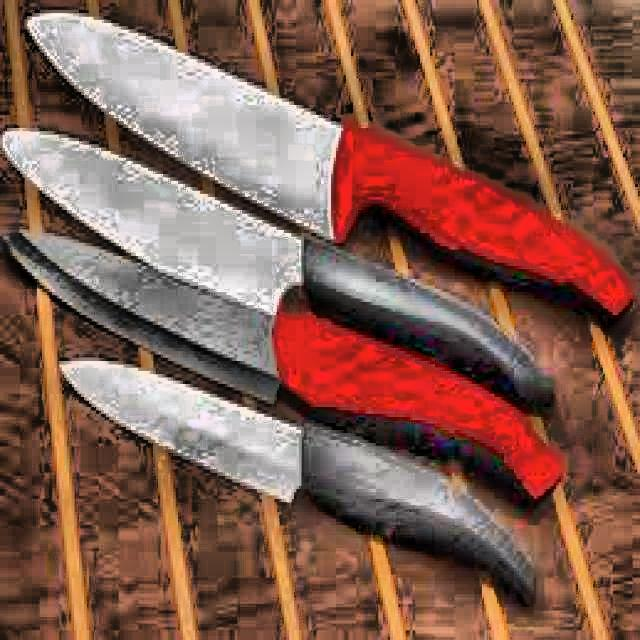knife: (23, 8, 640, 322), (0, 211, 573, 524), (3, 120, 564, 427), (52, 350, 550, 610)
